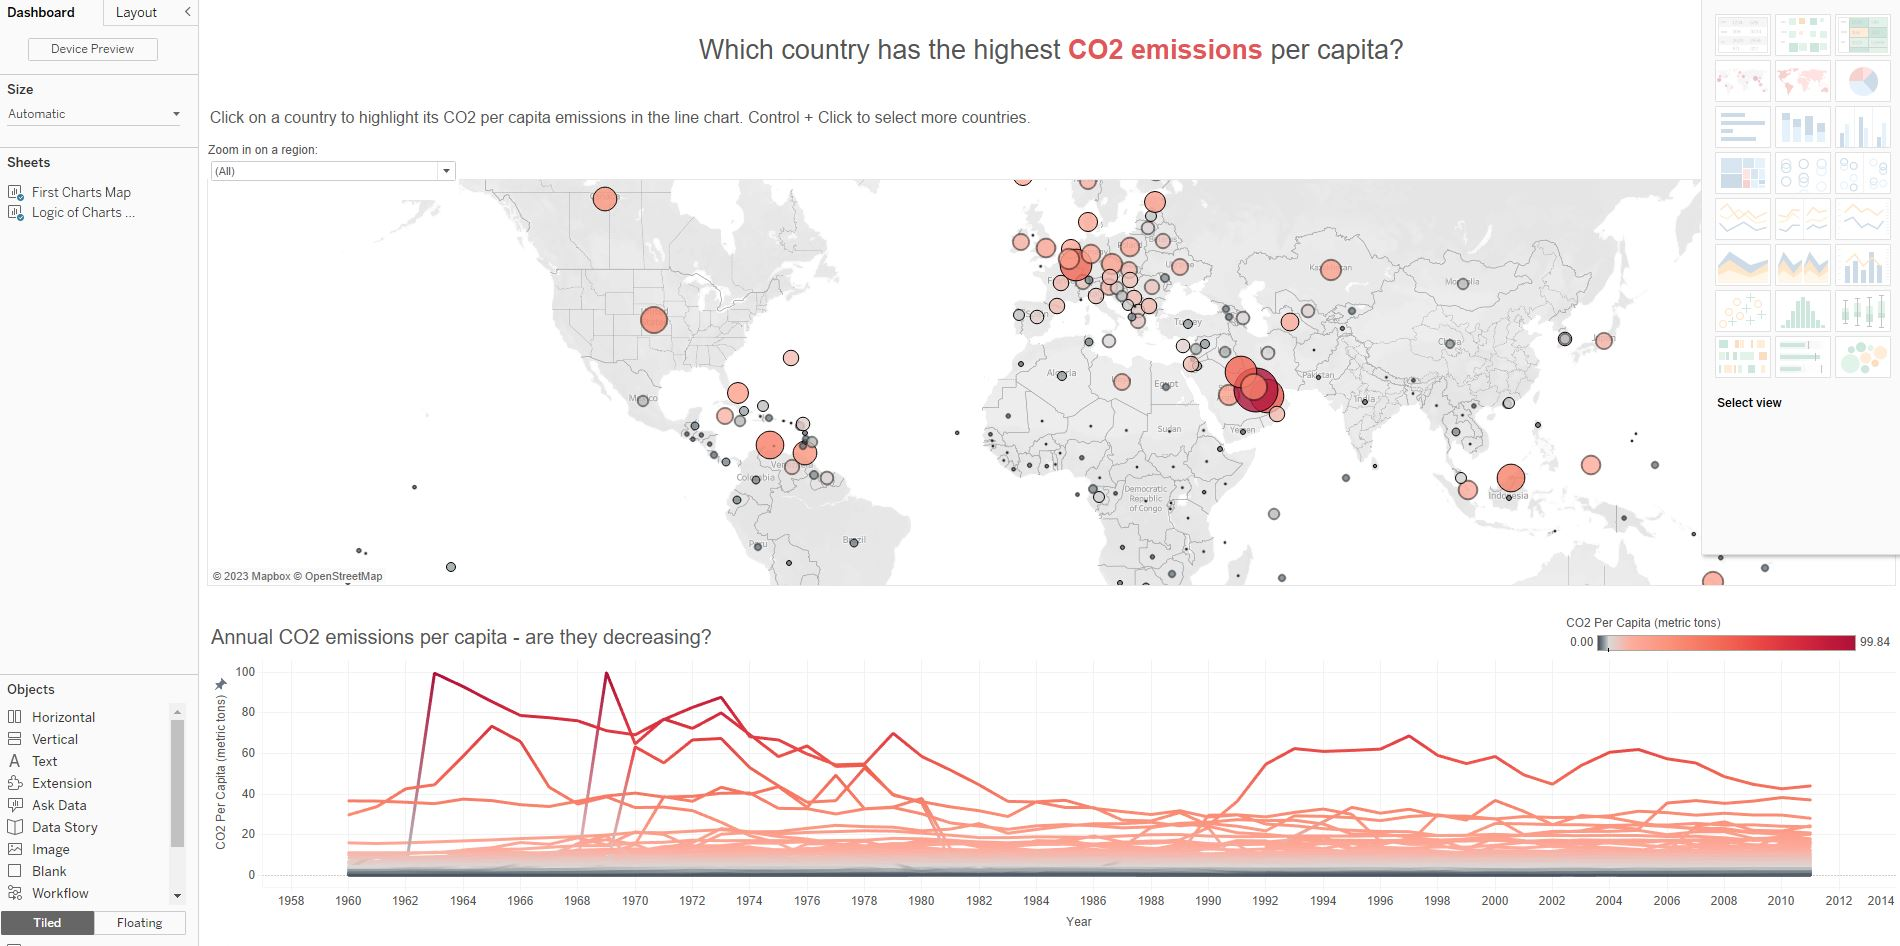

This screenshot's page, from the dashboard's own definition file:
{"tool":"tableau","page":{"name":"Dashboard formatting","canvas":[1000,1000],"units":"permille","ordinal":1},"visuals":[{"type":"title","box":[0,0,996.7,112.6]},{"type":"text","box":[0,112.6,996.7,45.5]},{"type":"filter","title":"First Charts Map","param":"[excel-direct.1g8hfat1w6mf6w11vdvqd0zzesgp].[attr:Region:nk]","box":[5,149,147,59.2]},{"type":"worksheet","title":"First Charts Map","mark":"Automatic","box":[0,158.1,996.7,457.4]},{"type":"blank","box":[0,615.5,996.7,27.9]},{"type":"legend","title":"Logic of Charts Line Chart","param":"[excel-direct.1g8hfat1w6mf6w11vdvqd0zzesgp].[sum:CO2 Per Capita (metric tons):qk","box":[800,638.5,192.7,74.2]},{"type":"worksheet","title":"Logic of Charts Line Chart","mark":"Automatic","rows":["CO2 Per Capita (metric tons)"],"cols":["Year"],"box":[0,643.4,996.7,325.9]},{"type":"text","box":[0,969.3,996.7,30.7]}]}

Visuals, with their boxes on the dashboard's canvas, which has no fixed pixel size, in thousandths of its width and height (x1, y1, x2, y2). These are canvas units, not pixel positions in the 1900x946 screenshot, which may show the page scaled, cropped or inside an application window:
title: Rect(0, 0, 997, 113)
text: Rect(0, 113, 997, 158)
"First Charts Map" filter: Rect(5, 149, 152, 208)
"First Charts Map" worksheet: Rect(0, 158, 997, 616)
blank: Rect(0, 616, 997, 643)
"Logic of Charts Line Chart" legend: Rect(800, 638, 993, 713)
"Logic of Charts Line Chart" worksheet: Rect(0, 643, 997, 969)
text: Rect(0, 969, 997, 1000)
